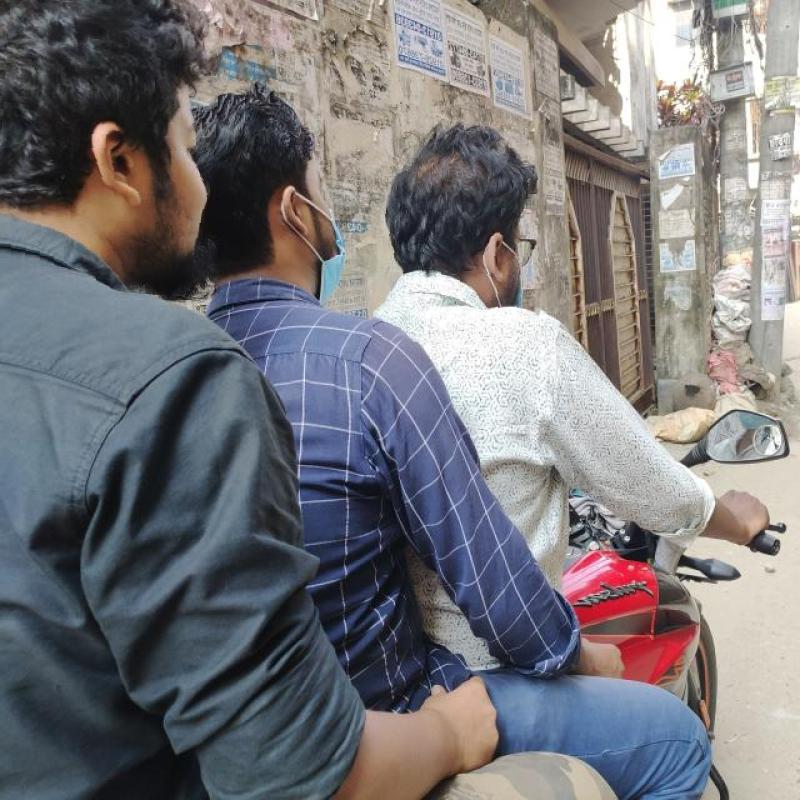nohelmet: (0, 1, 218, 294), (375, 105, 547, 346)
